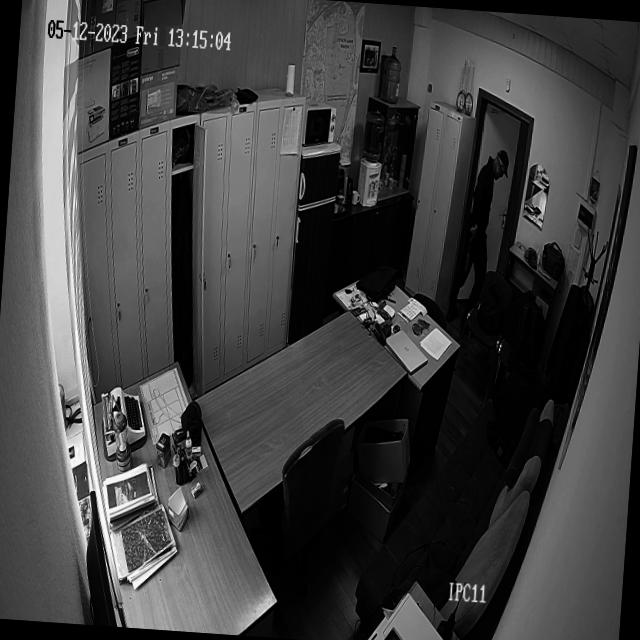gun: (462, 211, 478, 276)
person with a gun: (446, 147, 508, 322)
